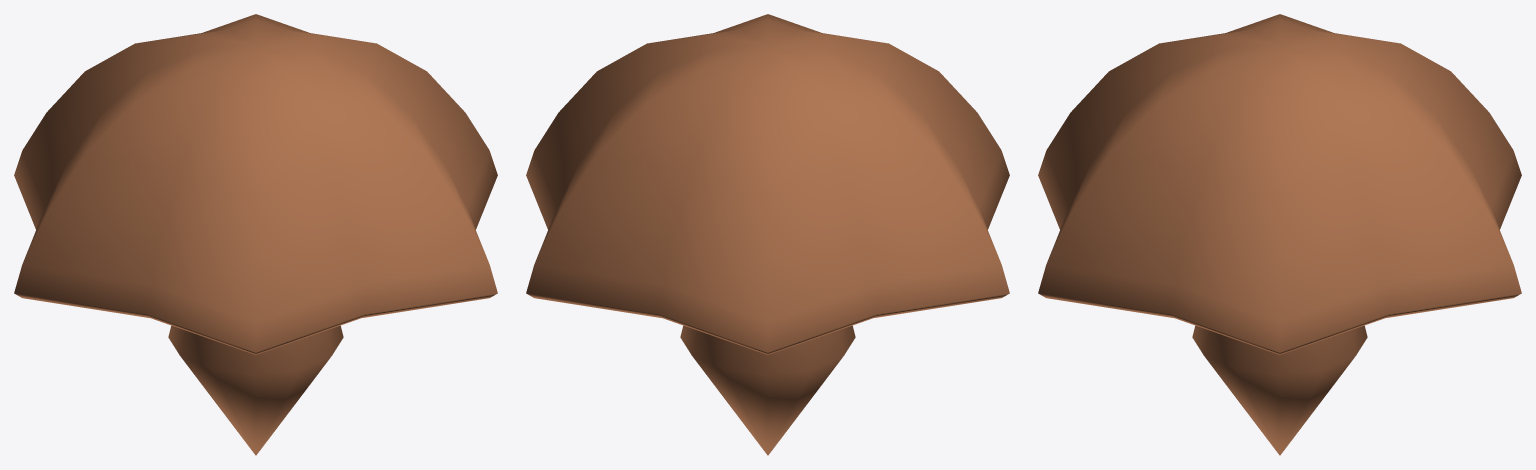
File: Mushroom.fbx
3 views of the same model, side by side, from view 1: azimuth 30°, elevation 25°; view 2: azimuth 150°, elevation 25°; view 3: azimuth 270°, elevation 25° (orthographic).
Parts seen in each view (by area): view 1: Mushroom; view 2: Mushroom; view 3: Mushroom.
Boxes of the visible parts, <box> form: Mushroom: <box>14,14,497,455</box>; Mushroom: <box>526,14,1009,455</box>; Mushroom: <box>1038,14,1521,455</box>.
Size of the model in its own units: 0.3937 by 0.3197 by 0.341.
